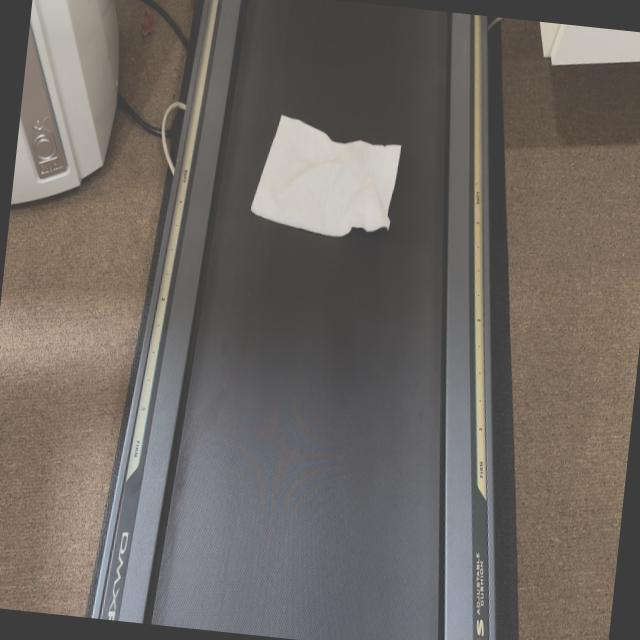Recycle: (246, 110, 405, 242)
